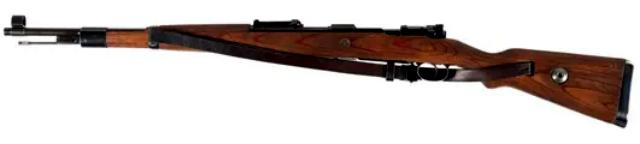rifle: (6, 8, 632, 130)
